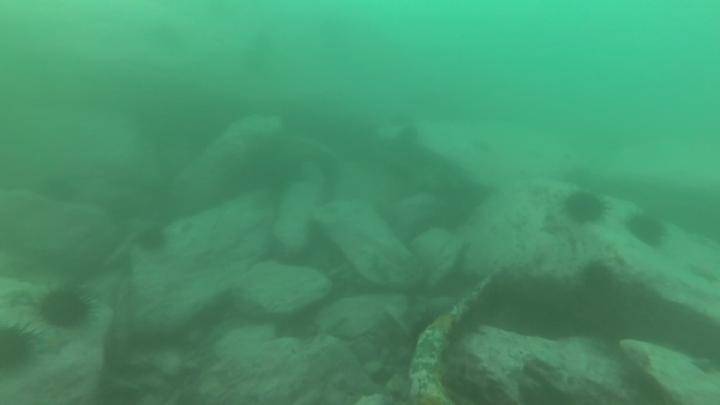echinus: (36, 283, 95, 331), (0, 320, 38, 377), (561, 188, 610, 227), (140, 19, 189, 57), (271, 307, 320, 344), (624, 210, 669, 250), (35, 172, 83, 208), (577, 258, 618, 300), (134, 224, 170, 256)
starfish: (33, 328, 74, 360)
